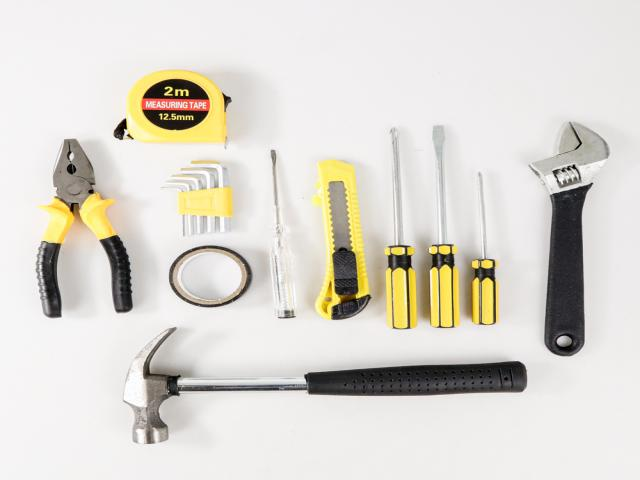Adjustable spanner: (530, 122, 610, 356)
Hammer: (124, 327, 526, 443)
Pliers: (36, 139, 132, 318)
Screwdriver: (385, 128, 418, 329), (429, 126, 460, 328), (270, 150, 296, 318), (471, 172, 499, 324)
Tape measure: (115, 70, 230, 143)
Utility knife: (312, 159, 370, 319)
